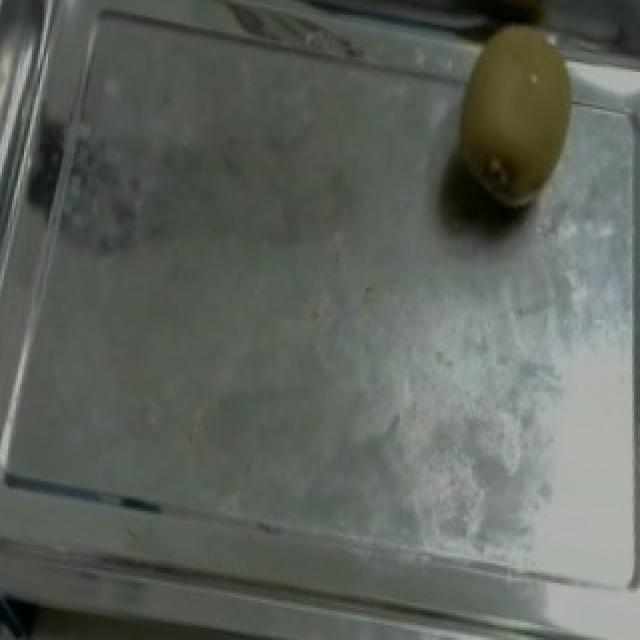Fruit: (418, 10, 600, 250)
